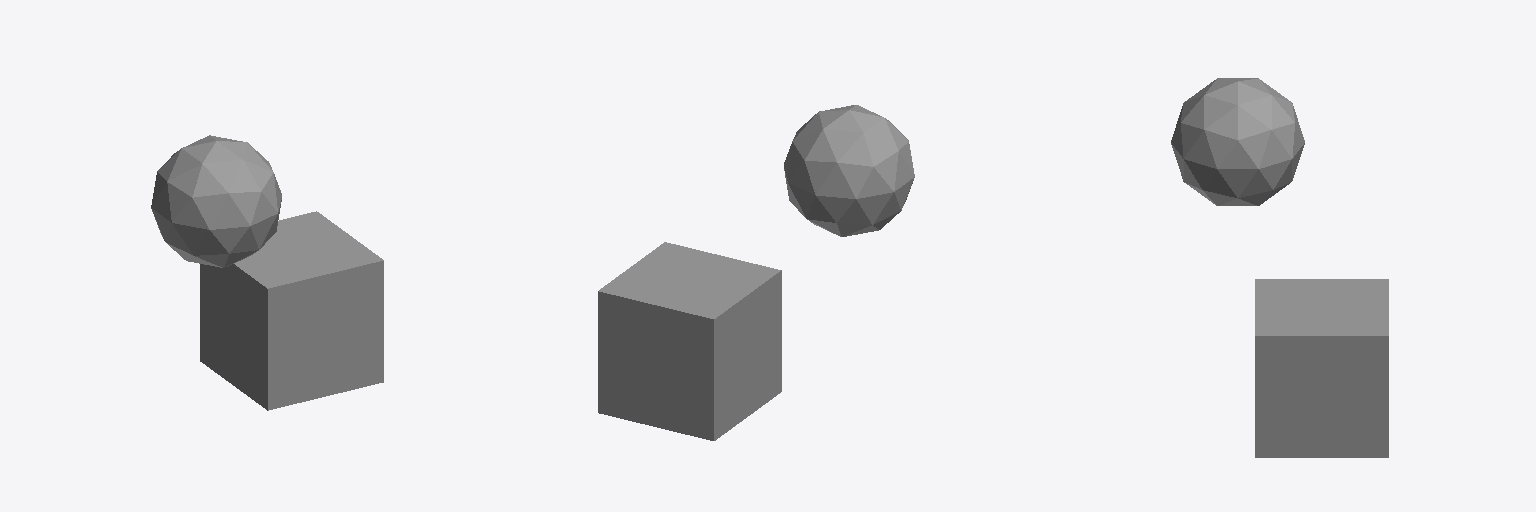
File: rani.obj
The picture shows the model from 3 angles: view 1: azimuth 30°, elevation 25°; view 2: azimuth 150°, elevation 25°; view 3: azimuth 270°, elevation 25°; orthographic projection.
Parts seen in each view (by area): view 1: Cube, Icosphere; view 2: Cube, Icosphere; view 3: Cube, Icosphere.
Part boxes in pixels (x1,y1,x2,y2): Cube: (200,211,383,410); Icosphere: (151,135,281,267); Cube: (598,242,781,440); Icosphere: (784,105,914,236); Cube: (1255,279,1388,457); Icosphere: (1171,78,1304,205).
Size of the model in its own units: 3.97 by 4.77 by 3.25.